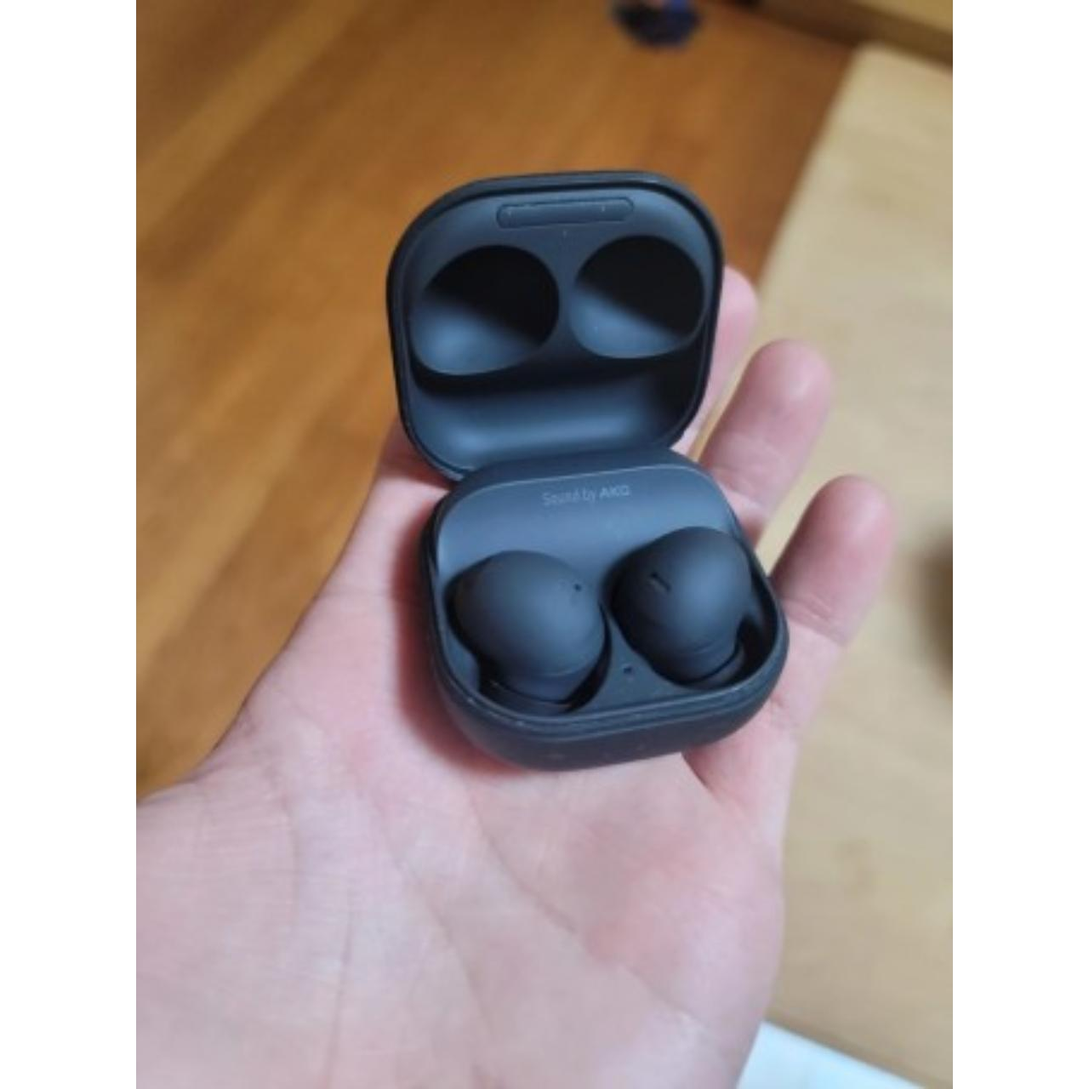Buds: (373, 167, 793, 778)
Buds_Units: (437, 545, 613, 721), (605, 521, 771, 699)
